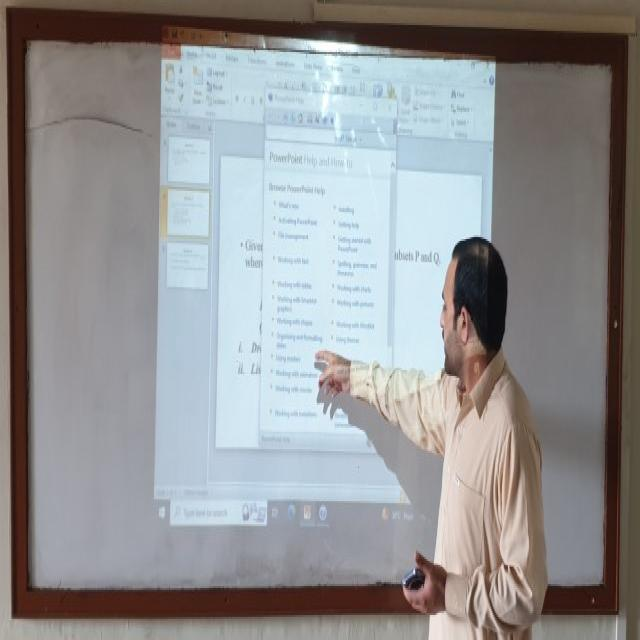Instructor: (431, 234, 547, 632)
Slide: (151, 23, 495, 538)
White-board: (16, 18, 622, 601)
